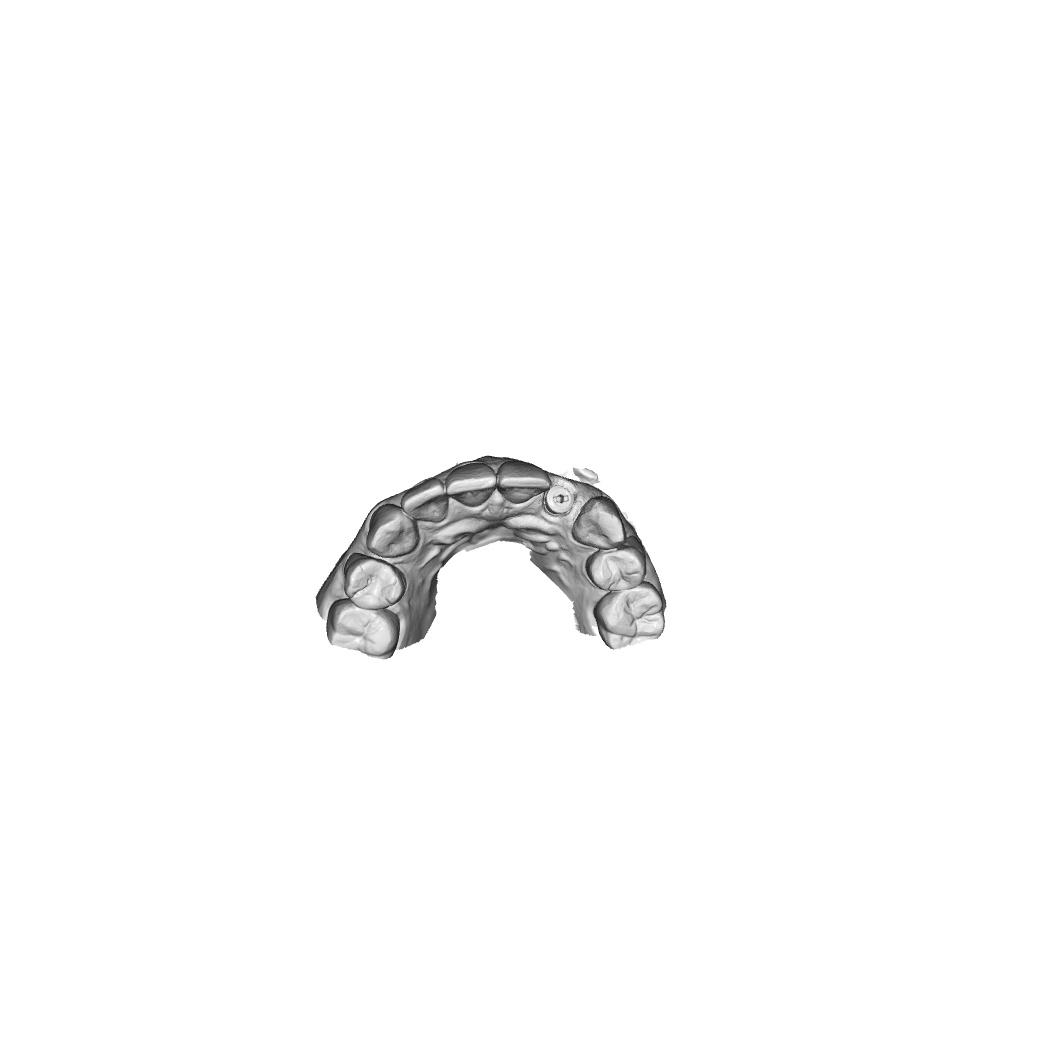canine: (569, 495, 631, 550), (365, 503, 422, 559)
implant_minus: (545, 482, 575, 518)
incisor: (498, 457, 553, 506), (444, 461, 498, 510), (399, 475, 450, 524)
premolar: (591, 580, 667, 641), (324, 598, 400, 658), (341, 553, 406, 611), (584, 543, 649, 593)
